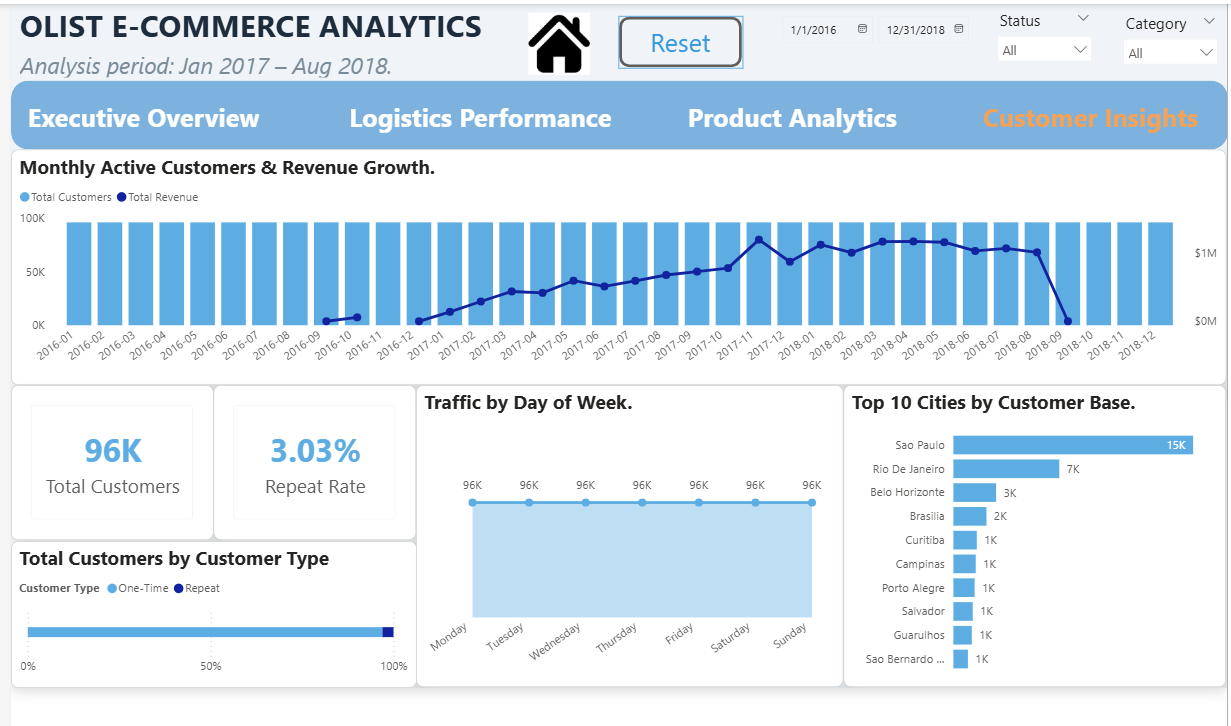

The dashboard page shown, as its layout file describes it:
{"tool":"powerbi","page":{"name":"Customers","canvas":[1280,720],"ordinal":3},"visuals":[{"type":"shape","title":"OLIST E-COMMERCE ANALYTICS","box":[9.4,0,500.8,77.5],"z":0},{"type":"image","box":[544.7,3.2,64.7,77.4],"z":1000},{"type":"actionButton","box":[639.5,12.6,131.1,55.3],"z":2000},{"type":"slicer","fields":{"Values":["Dim_Date.date"]},"box":[799,3.2,216.3,70],"z":3000},{"type":"slicer","fields":{"Values":["Dim_Customers.customer_state"]},"box":[1027.9,0,120,70],"z":4000},{"type":"slicer","fields":{"Values":["Dim_Products.category"]},"box":[1160.5,3.2,120,70],"z":5000},{"type":"shape","box":[0,80.3,1281,72.7],"z":6000},{"type":"actionButton","box":[9.1,96.9,260.4,39.4],"z":7000},{"type":"actionButton","box":[346.8,96.9,293.8,39.4],"z":8000},{"type":"actionButton","box":[705.6,96.9,233.2,39.4],"z":9000},{"type":"actionButton","box":[1016,96.9,242.3,39.4],"z":10000},{"type":"lineClusteredColumnComboChart","title":"Monthly Active Customers & Revenue Growth.","fields":{"Category":["Dim_Date.year_month"],"Y":["_KeyMeasures.Total Customers"],"Y2":["_KeyMeasures.Total Revenue"]},"box":[0,152.9,1279.5,248.3],"z":10001},{"type":"cardVisual","fields":{"Data":["_KeyMeasures.Total Customers"]},"box":[0,401.3,213.5,163.5],"z":10002},{"type":"cardVisual","fields":{"Data":["_KeyMeasures.Repeat Rate"]},"box":[213.5,401.3,213.5,163.5],"z":10003},{"type":"hundredPercentStackedBarChart","fields":{"Y":["_KeyMeasures.Total Customers"],"Series":["Dim_Customers.Customer Type"]},"box":[0,564.8,427,154.4],"z":10004},{"type":"areaChart","title":"Traffic by Day of Week.","fields":{"Category":["Dim_Date.day_name"],"Y":["_KeyMeasures.Total Customers"]},"box":[427,401.3,450,318],"z":10005},{"type":"clusteredBarChart","title":"Top 10 Cities by Customer Base.","fields":{"Category":["Dim_Customers.customer_city"],"Y":["_KeyMeasures.Total Customers"]},"box":[876.7,401.3,402.8,318],"z":10006}]}

Visuals, with their boxes on the page's 1280x720 design canvas (x1, y1, x2, y2). These are canvas units, not pixel positions in the 1231x726 screenshot, which may show the page scaled, cropped or inside an application window:
"OLIST E-COMMERCE ANALYTICS" shape: [left=9, top=0, right=510, bottom=78]
image: [left=545, top=3, right=609, bottom=81]
actionButton: [left=640, top=13, right=771, bottom=68]
slicer - Dim_Date.date: [left=799, top=3, right=1015, bottom=73]
slicer - Dim_Customers.customer_state: [left=1028, top=0, right=1148, bottom=70]
slicer - Dim_Products.category: [left=1160, top=3, right=1280, bottom=73]
shape: [left=0, top=80, right=1281, bottom=153]
actionButton: [left=9, top=97, right=270, bottom=136]
actionButton: [left=347, top=97, right=641, bottom=136]
actionButton: [left=706, top=97, right=939, bottom=136]
actionButton: [left=1016, top=97, right=1258, bottom=136]
"Monthly Active Customers & Revenue Growth." lineClusteredColumnComboChart: [left=0, top=153, right=1280, bottom=401]
cardVisual - _KeyMeasures.Total Customers: [left=0, top=401, right=214, bottom=565]
cardVisual - _KeyMeasures.Repeat Rate: [left=214, top=401, right=427, bottom=565]
hundredPercentStackedBarChart - _KeyMeasures.Total Customers x Dim_Customers.Customer Type: [left=0, top=565, right=427, bottom=719]
"Traffic by Day of Week." areaChart: [left=427, top=401, right=877, bottom=719]
"Top 10 Cities by Customer Base." clusteredBarChart: [left=877, top=401, right=1280, bottom=719]
